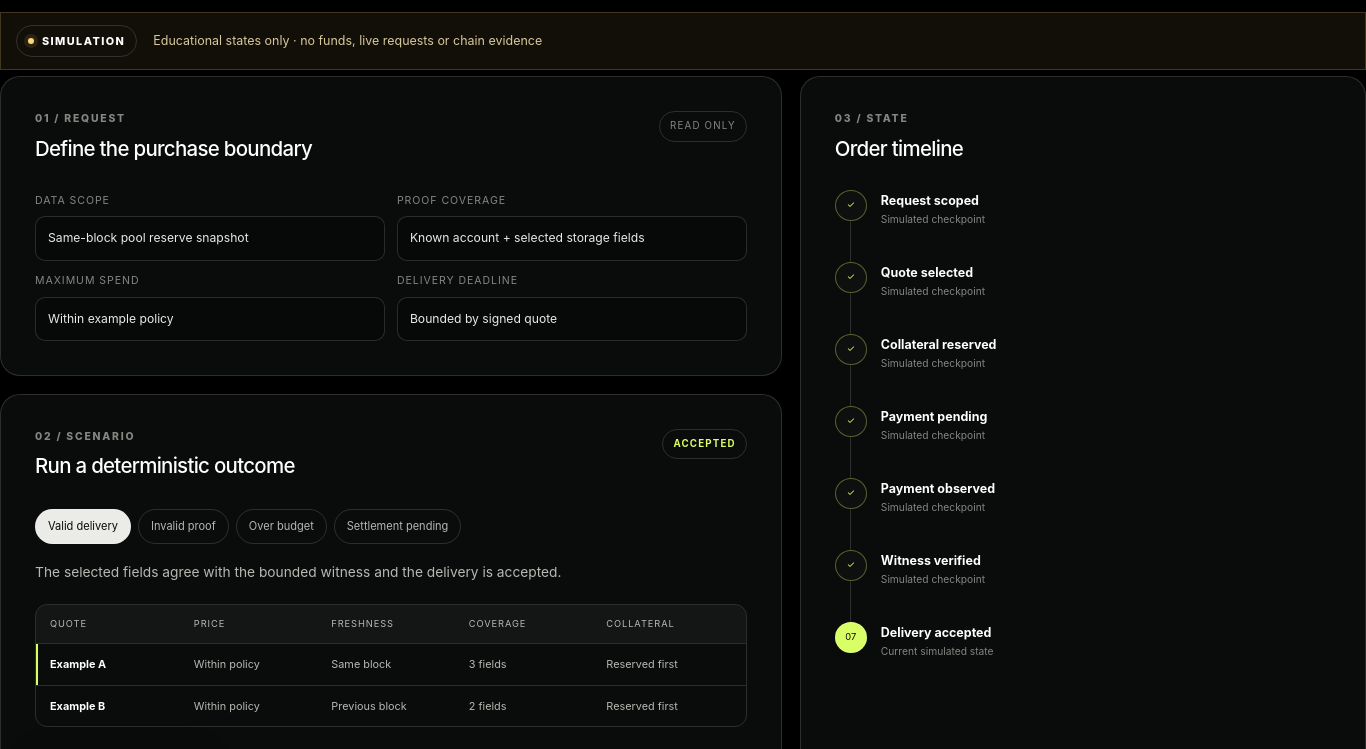
Test: DemoConsole › requires human approval before an over-budget quote can advance
The width and height of the screenshot is (1366, 749).
Click the button "Over budget".
click(281, 526)  # box [236, 509, 327, 544]
(page scrolled)
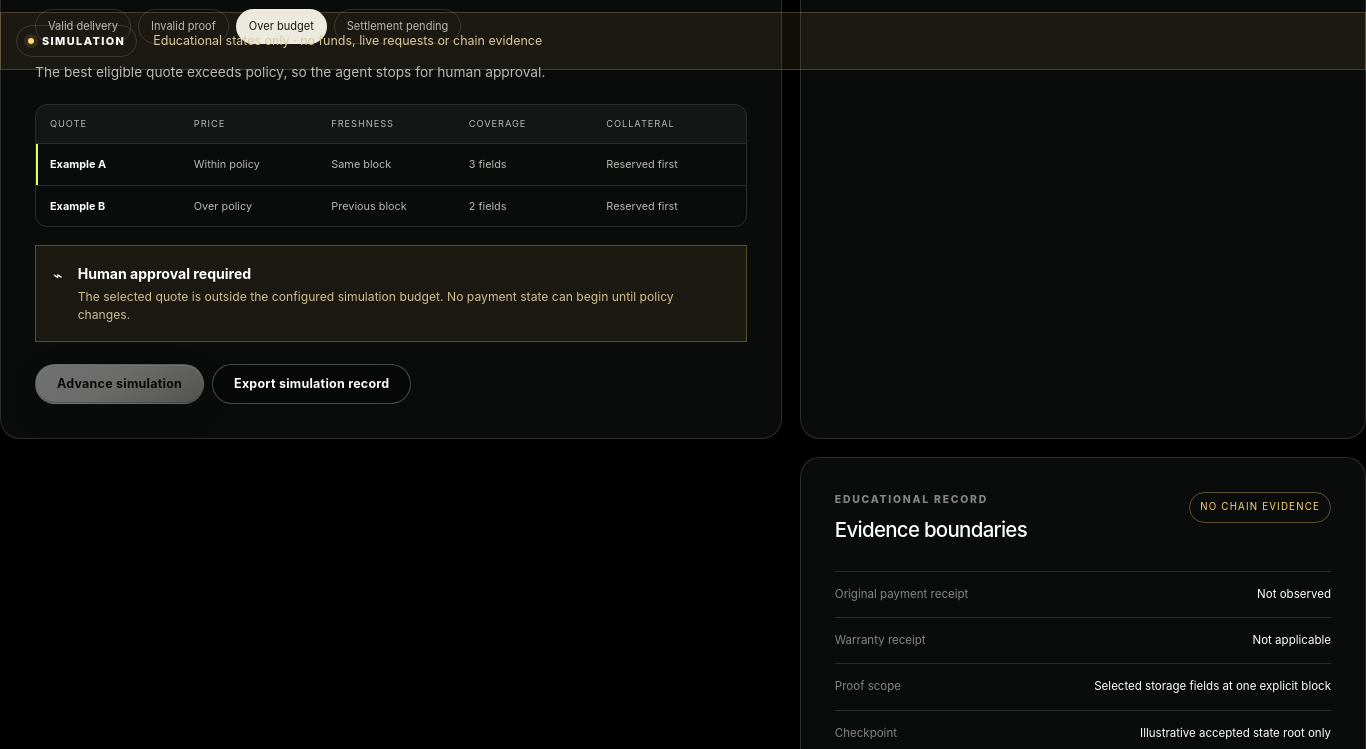
Check: the dialog "Human approval required" is shown, box [35, 245, 747, 342]
Check: the button "Advance simulation" is disabled, box [35, 364, 204, 404]
